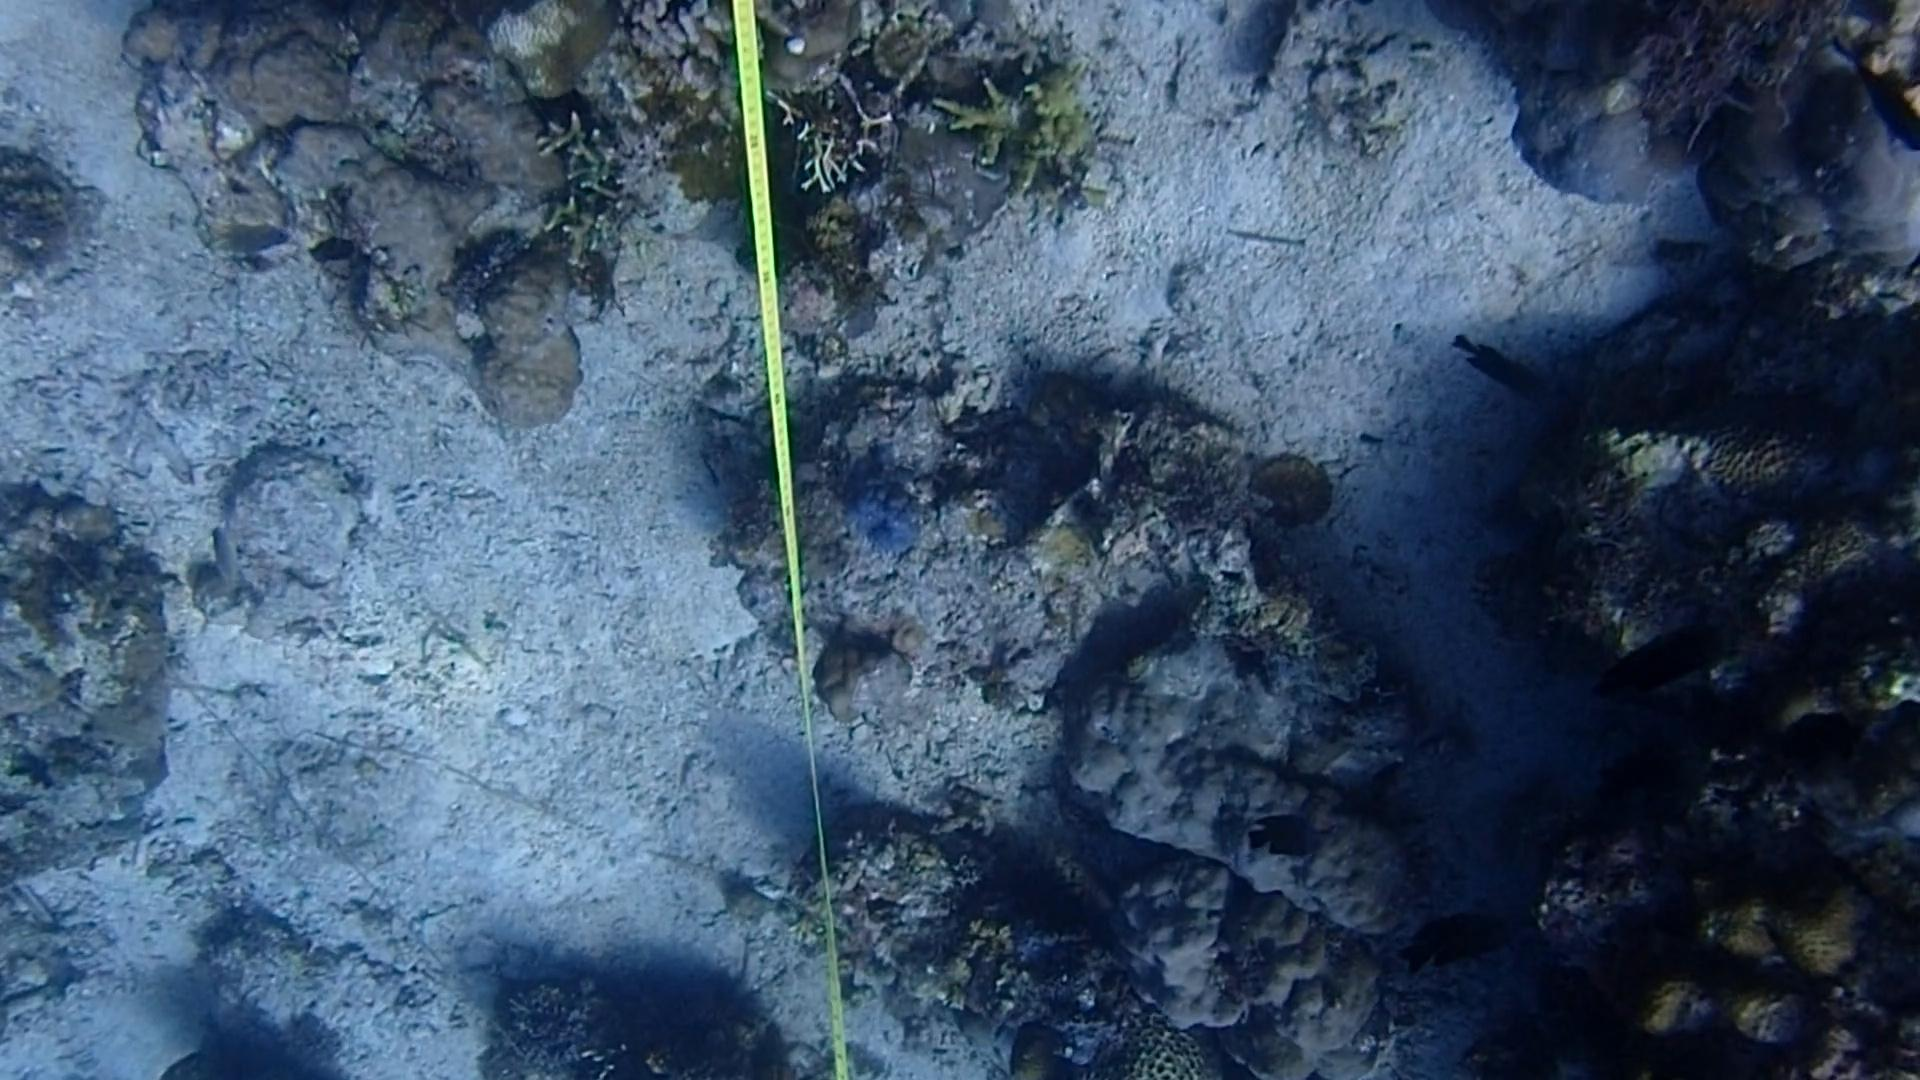Dark Fish: (1589, 611, 1737, 712), (1837, 36, 1920, 152), (1406, 898, 1527, 977), (1445, 331, 1563, 411), (1247, 800, 1349, 869)
Light Fish: (210, 514, 244, 595)
